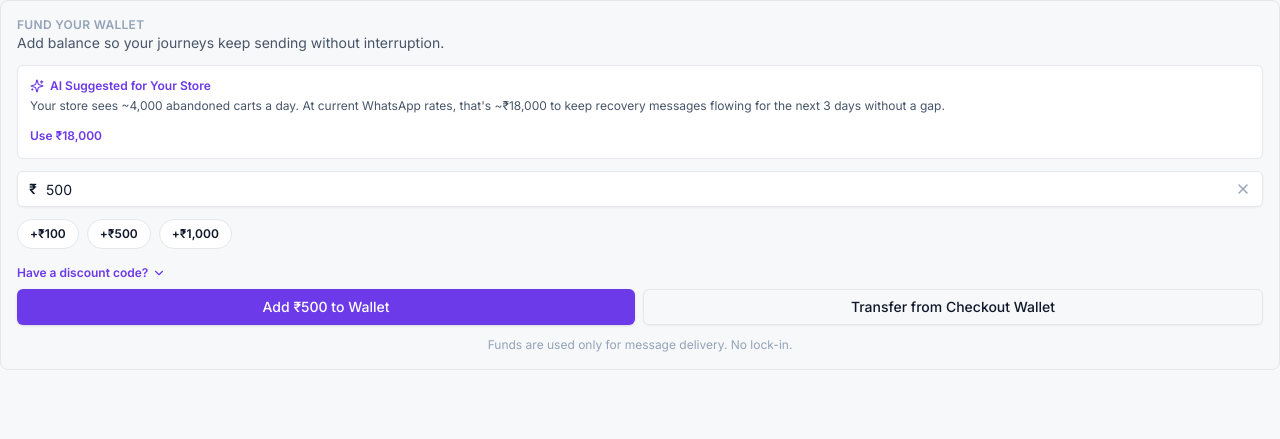
WalletRechargeCard › the discount code field is hidden until 'Have a discount code?' is clicked
Click the button with test id "wallet-recharge-discount-toggle" at (92, 273), box [17,265,166,281]
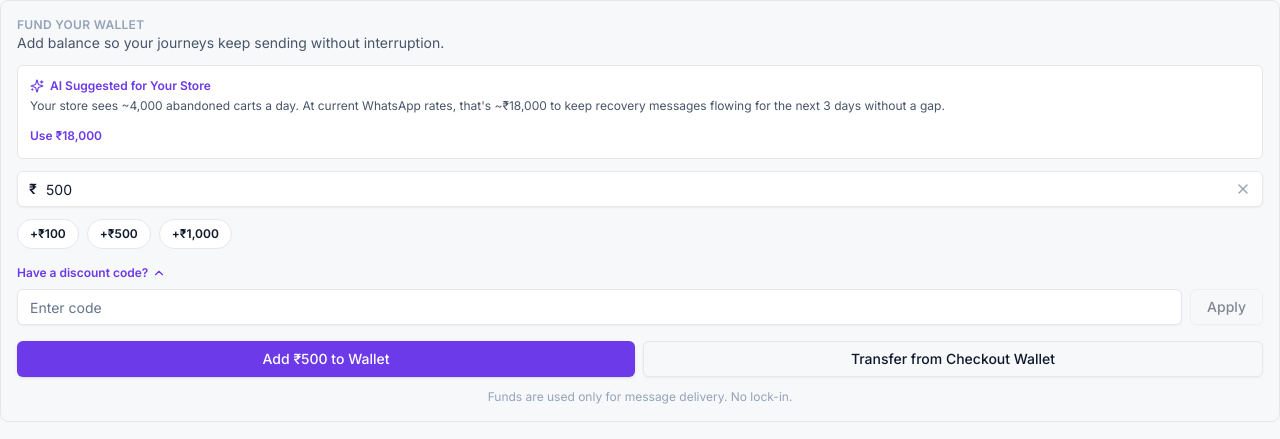
Now the field with test id "wallet-recharge-coupon-input" is shown, box [17,289,1182,325]
